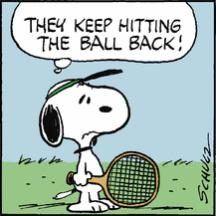snoopy: (39, 68, 161, 214)
